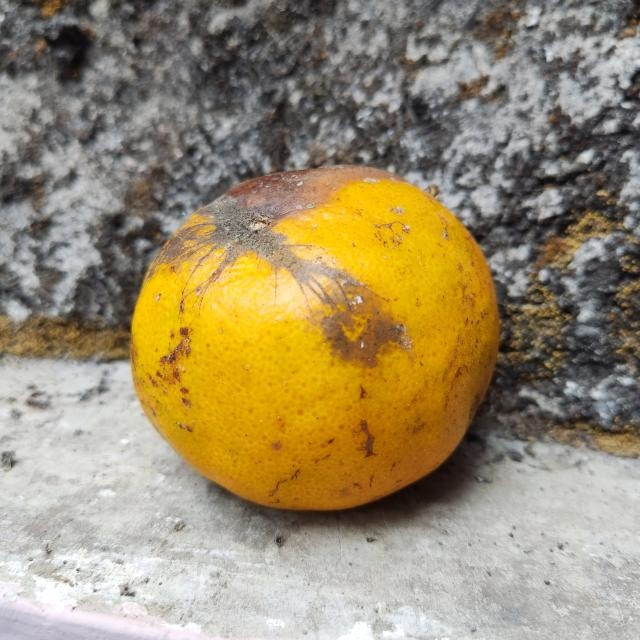agrume: (126, 163, 501, 509)
